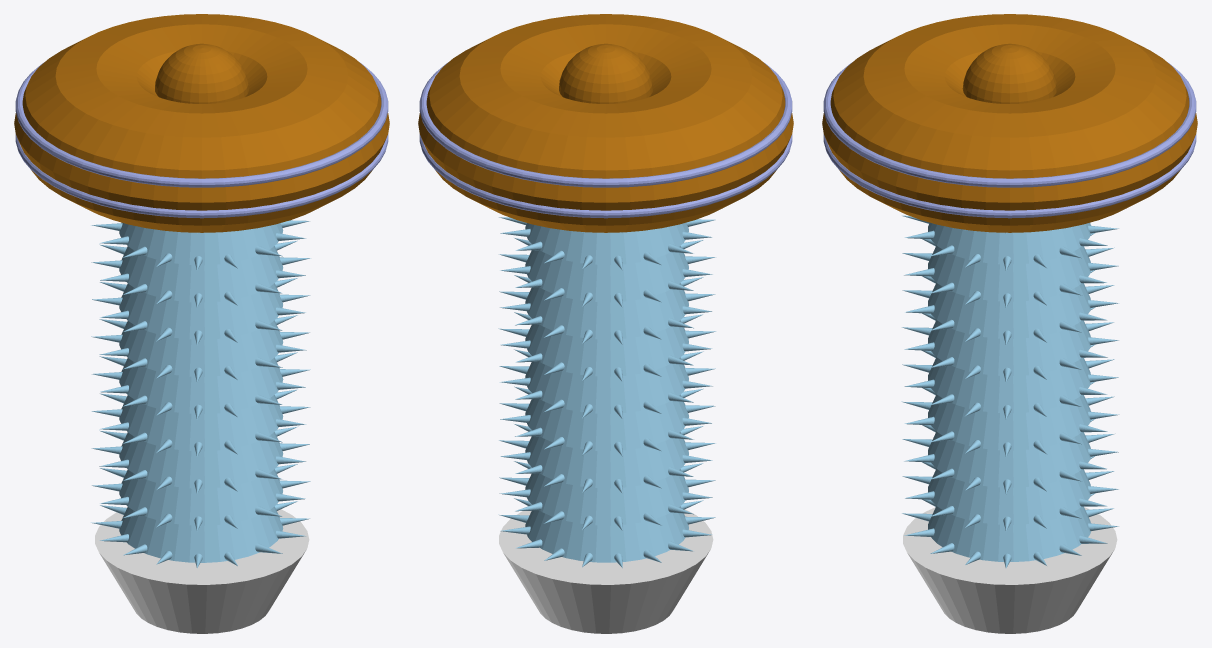
File: teslacoil.fbx
The picture shows the model from 3 angles, left to right: view 1: azimuth 30°, elevation 25°; view 2: azimuth 150°, elevation 25°; view 3: azimuth 270°, elevation 25°; orthographic projection.
Visible parts, largest first — view 1: Torus, Cylinder.001, Cone.005, Cone.004, Cone.001, Cone.006, Cone.003, Cone.007, Cone.002, Cone.008, Cone.009, Torus.002 (+2 smaller); view 2: Torus, Cylinder.001, Cone.004, Cone.005, Cone.008, Cone.007, Cone.003, Cone.006, Cone.002, Cone.001, Cone.009, Torus.002 (+2 smaller); view 3: Torus, Cylinder.001, Cone.007, Cone.002, Cone.008, Cone.001, Cone.006, Cone.003, Cone.004, Cone.005, Cone.009, Torus.002 (+2 smaller).
Part boxes in pixels (x1,y1,x2,y2): Torus: (14,14,389,232); Cylinder.001: (95,507,309,633); Cone.005: (92,352,310,419); Cone.004: (91,389,310,456); Cone.001: (91,501,309,568); Cone.006: (91,315,309,382); Cone.003: (91,426,309,493); Cone.007: (92,278,310,344); Cone.002: (92,464,310,530); Cone.008: (91,240,310,307); Cone.009: (91,220,309,270); Torus.002: (15,62,388,187); Torus: (418,14,793,232); Cylinder.001: (499,509,713,633); Cone.004: (499,386,715,456); Cone.005: (499,349,715,418); Cone.008: (499,238,715,307); Cone.007: (499,275,715,344); Cone.003: (499,424,715,493); Cone.006: (498,312,716,381); Cone.002: (499,461,715,530); Cone.001: (498,498,715,567); Cone.009: (498,217,715,270); Torus.002: (419,62,792,187); Torus: (822,14,1197,232); Cylinder.001: (903,507,1117,633); Cone.007: (902,270,1119,344); Cone.002: (902,456,1118,530); Cone.008: (902,233,1118,307); Cone.001: (902,493,1118,568); Cone.006: (902,307,1118,382); Cone.003: (902,419,1118,493); Cone.004: (901,381,1119,456); Cone.005: (902,344,1118,419); Cone.009: (902,215,1118,270); Torus.002: (823,62,1196,187).
Size of the model in its own units: 458 by 748 by 458.
